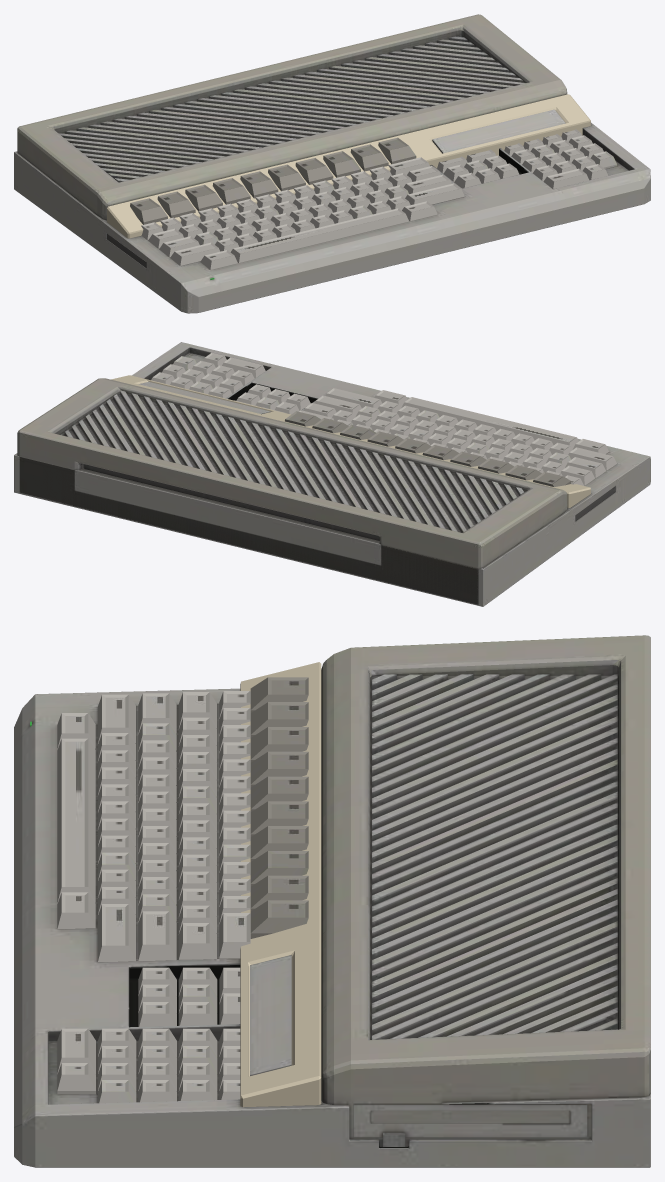
Rendered from atarist.glb.
3 views of the same model, one above another, from view 1: azimuth 30°, elevation 25°; view 2: azimuth 150°, elevation 25°; view 3: azimuth 270°, elevation 25° (orthographic). The views are drawn at different scales.
Parts seen in each view (by area): view 1: body, st-keys-light, frow-ledge; view 2: body, st-keys-light, frow-ledge; view 3: body, st-keys-light, frow-ledge.
Part boxes in pixels (x1=…): body: x1=14, y1=14, x2=650, y2=313; st-keys-light: x1=130, y1=129, x2=616, y2=269; frow-ledge: x1=107, y1=94, x2=590, y2=238; body: x1=14, y1=342, x2=650, y2=606; st-keys-light: x1=151, y1=352, x2=616, y2=486; frow-ledge: x1=111, y1=375, x2=590, y2=507; body: x1=14, y1=635, x2=650, y2=1167; st-keys-light: x1=57, y1=677, x2=308, y2=1103; frow-ledge: x1=240, y1=662, x2=321, y2=1107.
Bounding box in the file's own units: 0.4713 × 0.0599 × 0.3.
Materials: 4 (2 with a texture image).
